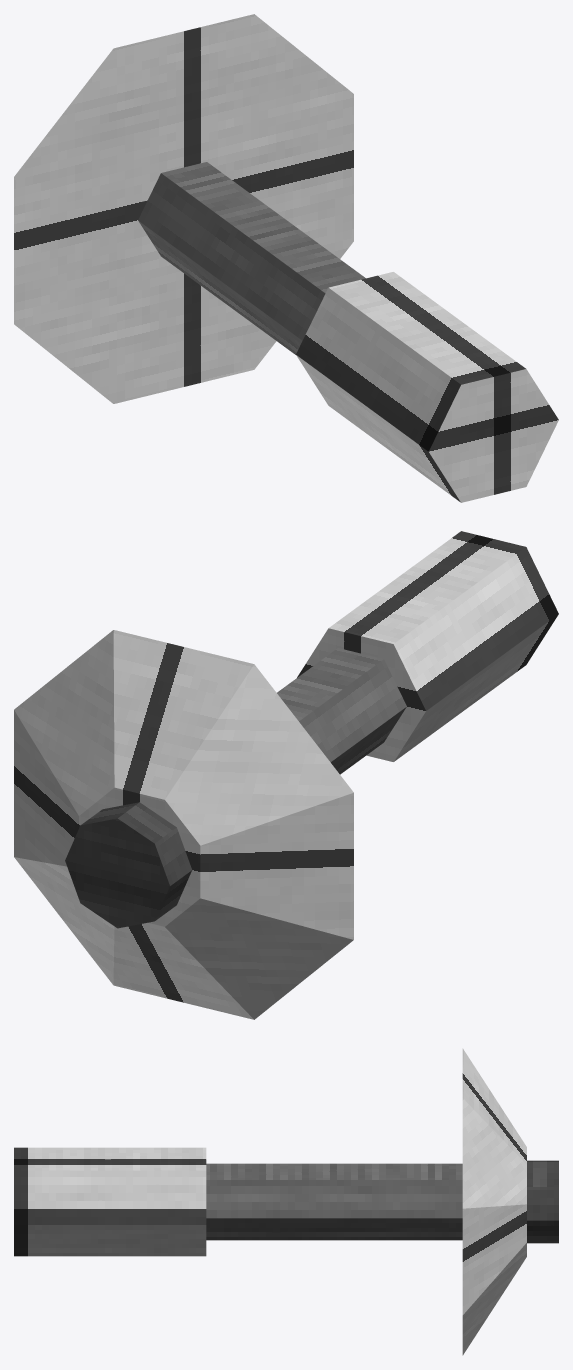
Rendered from dish_port_aphelion.glb.
3 renders of one model, top to bottom at view 1: azimuth 30°, elevation 25°; view 2: azimuth 150°, elevation 25°; view 3: azimuth 270°, elevation 25°, orthographic. The views are drawn at different scales.
Parts seen in each view (by area): view 1: dish, dish_sleeve, dish_mast; view 2: dish, dish_sleeve, dish_core, dish_mast; view 3: dish_sleeve, dish_mast, dish, dish_core.
Boxes of the visible parts, x1,y1,x2,y2 form: dish: (14, 14, 353, 403); dish_sleeve: (296, 272, 558, 502); dish_mast: (138, 162, 365, 354); dish: (14, 630, 353, 1019); dish_sleeve: (297, 531, 558, 761); dish_core: (65, 802, 191, 928); dish_mast: (277, 648, 406, 774); dish_sleeve: (14, 1147, 206, 1256); dish_mast: (206, 1163, 462, 1240); dish: (462, 1048, 526, 1355); dish_core: (527, 1160, 558, 1243).
Bounding box in the file's own units: 8.87 × 8.87 × 17.
Materials: 3 (3 with a texture image).
